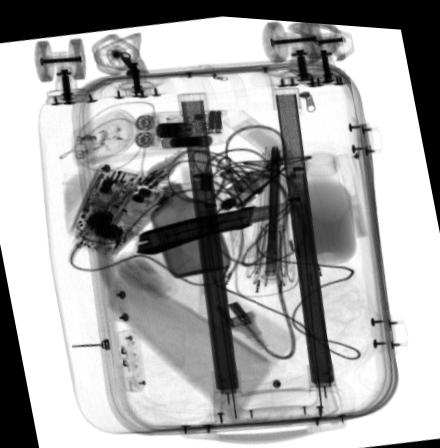Knife: (135, 198, 281, 252)
